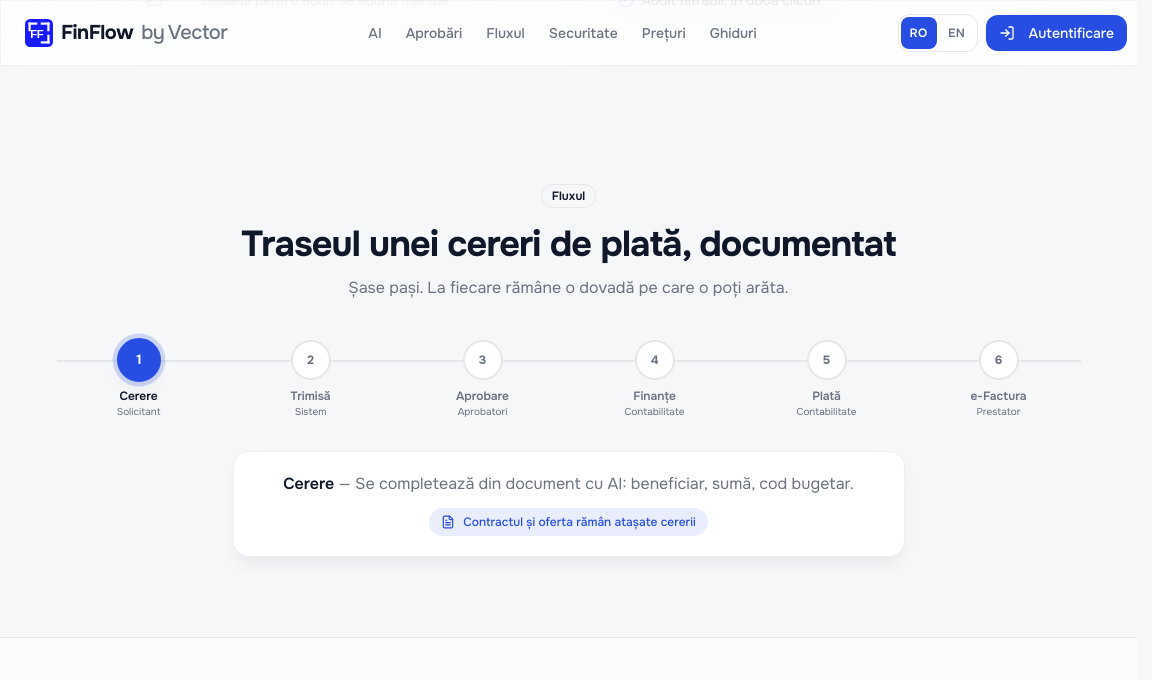
it: BusinessLandingPage (FinFlow) › fiecare pas al traseului arată ce dovadă rămâne
(page scrolled)
Expected: the text "Contractul și oferta rămân atașate cererii" is shown, [429, 508, 708, 536]
Click the button named "pasul 5: plată" at (826, 360), box [806, 340, 846, 380]
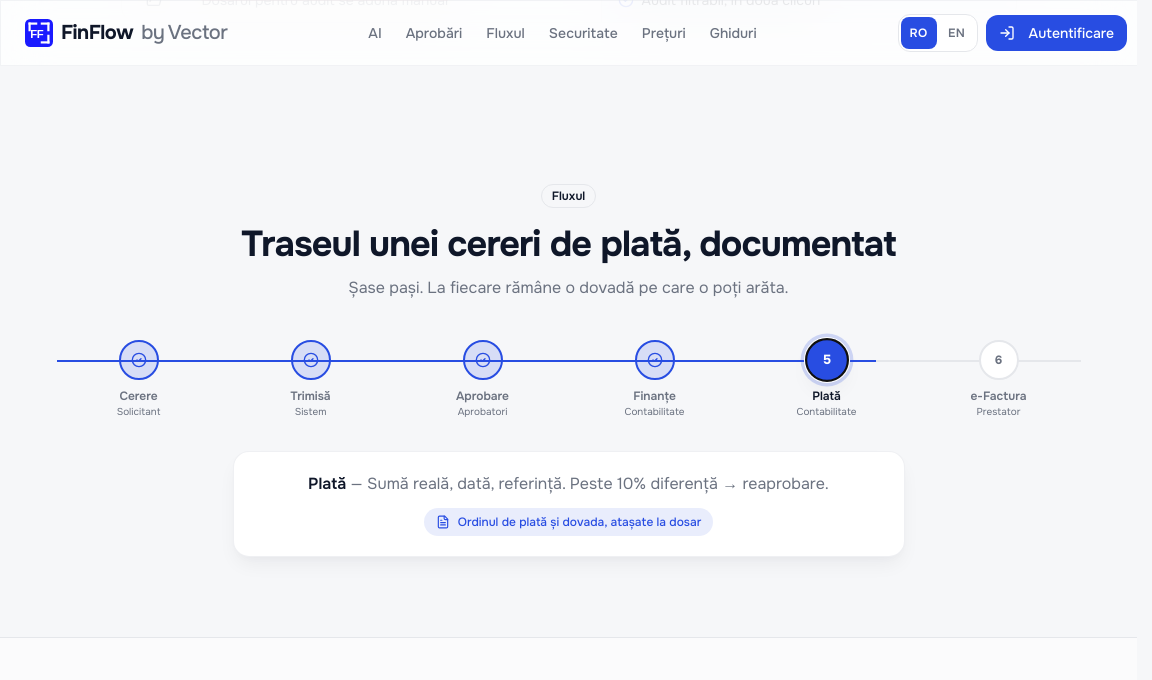
Result: the text "Sumă reală" is shown at [367, 473, 829, 494]
Result: the text "Ordinul de plată și dovada, atașate la dosar" is shown at [424, 508, 713, 536]
